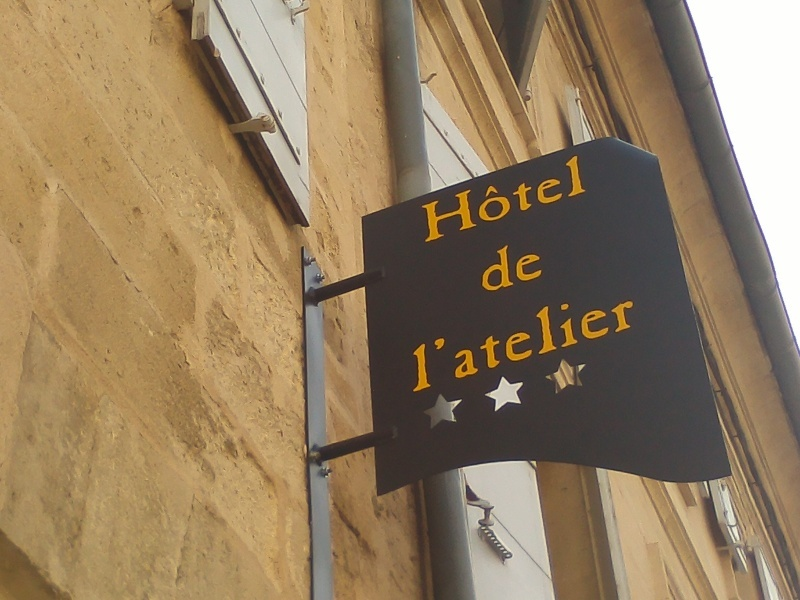text: (417, 283, 432, 393), (433, 283, 448, 393), (449, 283, 464, 393), (465, 283, 480, 393), (481, 283, 496, 393), (497, 283, 512, 393), (513, 283, 528, 393), (529, 283, 544, 393), (545, 283, 560, 393), (561, 283, 576, 393), (577, 283, 592, 393), (593, 283, 608, 393), (609, 283, 624, 393), (625, 283, 640, 393), (403, 283, 416, 393), (433, 154, 448, 245), (449, 154, 464, 245), (465, 154, 480, 245), (481, 154, 496, 245), (497, 154, 512, 245), (513, 154, 528, 245), (529, 154, 544, 245), (545, 154, 560, 245), (561, 154, 576, 245), (419, 154, 432, 245), (529, 236, 545, 295), (577, 154, 587, 245), (481, 236, 496, 295), (497, 236, 512, 295), (513, 236, 528, 295), (477, 236, 480, 295)
